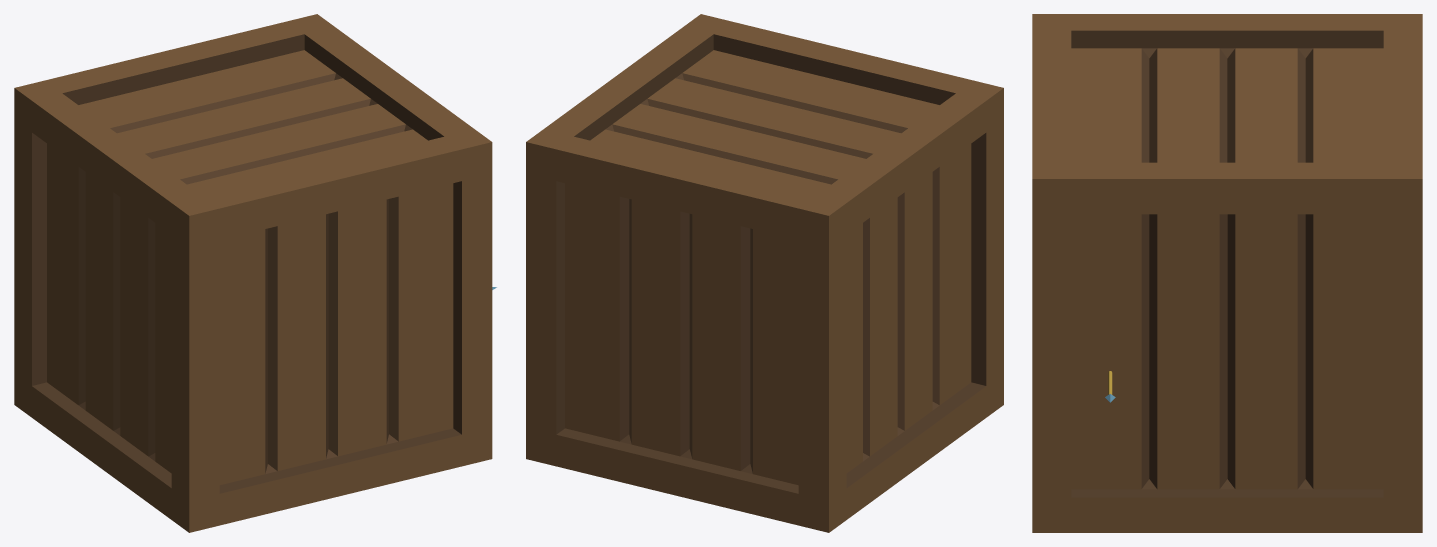
File: caja.dae
3 views of the same model, side by side, from view 1: azimuth 30°, elevation 25°; view 2: azimuth 150°, elevation 25°; view 3: azimuth 270°, elevation 25° (orthographic). The views are drawn at different scales.
Visible parts, largest first — view 1: crate01; view 2: crate01; view 3: crate01.
Part boxes in pixels (x1=…): crate01: x1=14, y1=14, x2=492, y2=532; crate01: x1=526, y1=14, x2=1003, y2=532; crate01: x1=1032, y1=14, x2=1422, y2=532.
Size of the model in its own units: 1.13 by 1 by 1.
